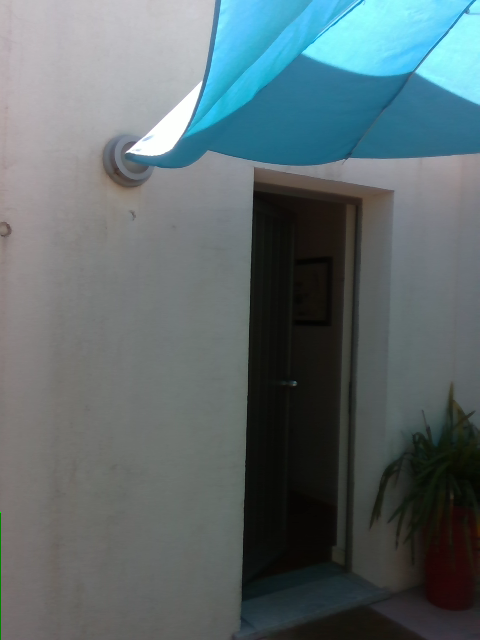semi: (238, 164, 391, 616)
